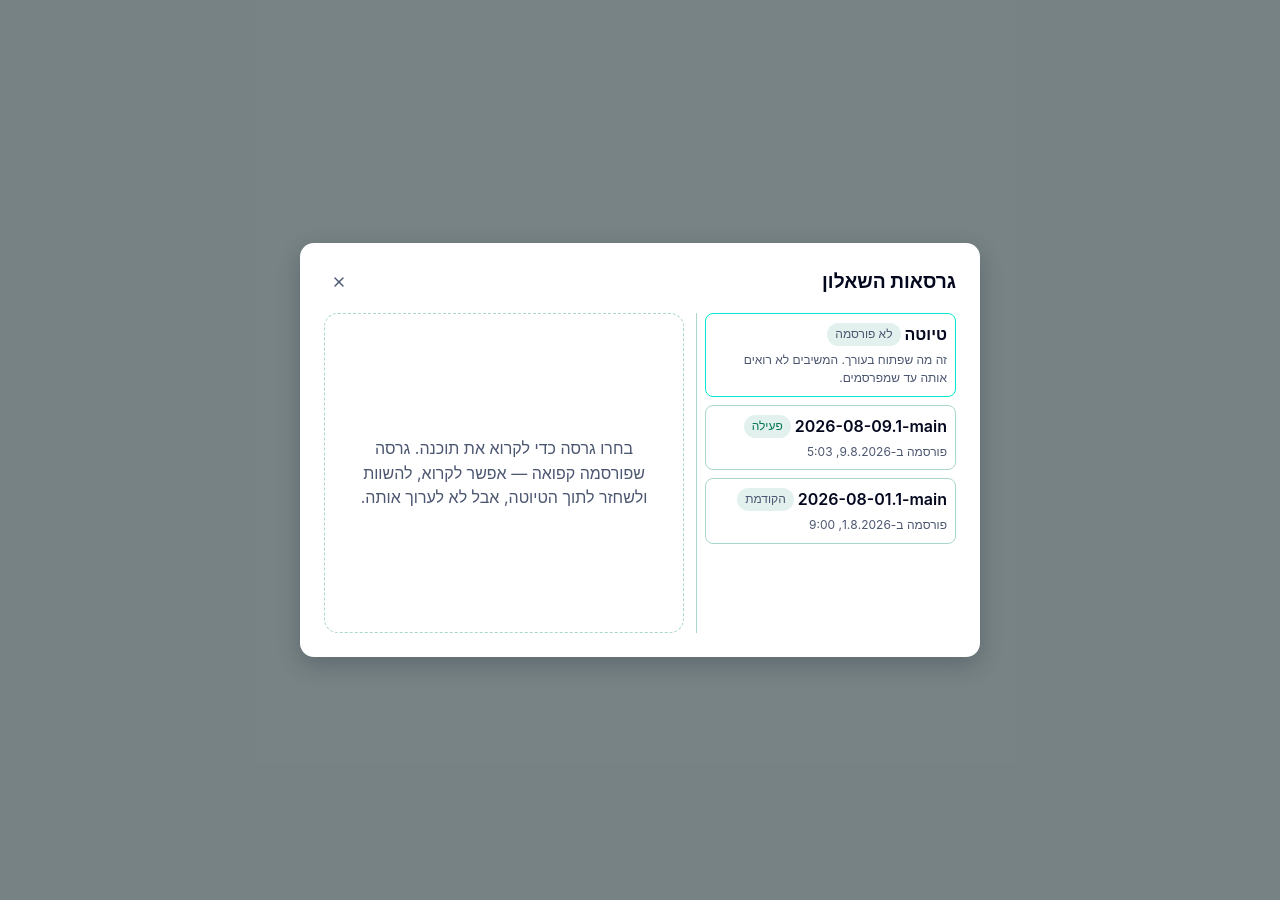
Test: reading a published version › reads oldest to newest whichever version was opened first
Click the text "2026-08-01.1-main" at (872, 500), box [798,487,947,512]
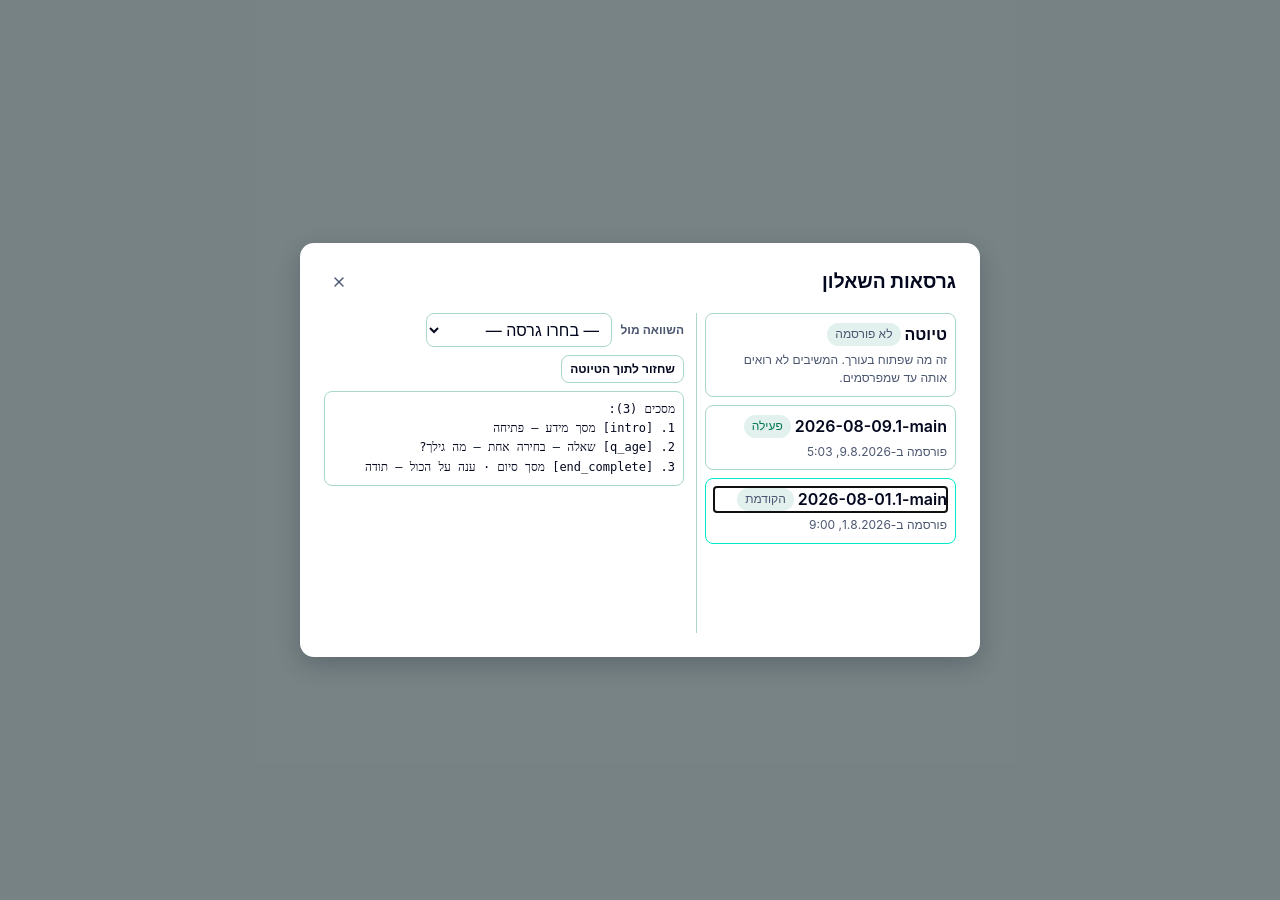
Select "2026-08-09.1-main" in the dropdown labelled "השוואה מול" at (520, 330), box [426,313,612,347]
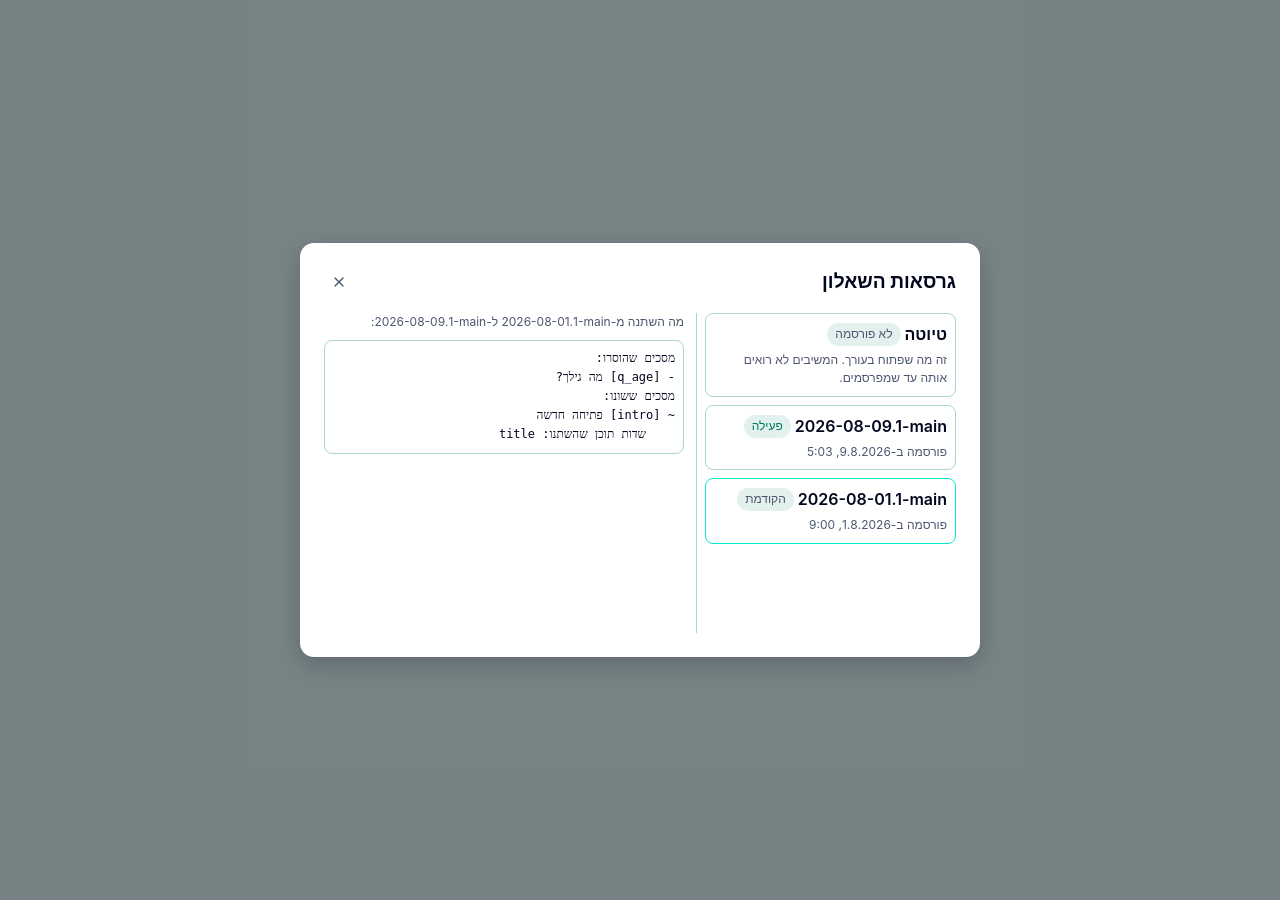
Check: the text "מסכים שהוסרו" is shown, box [499,351,675,441]
